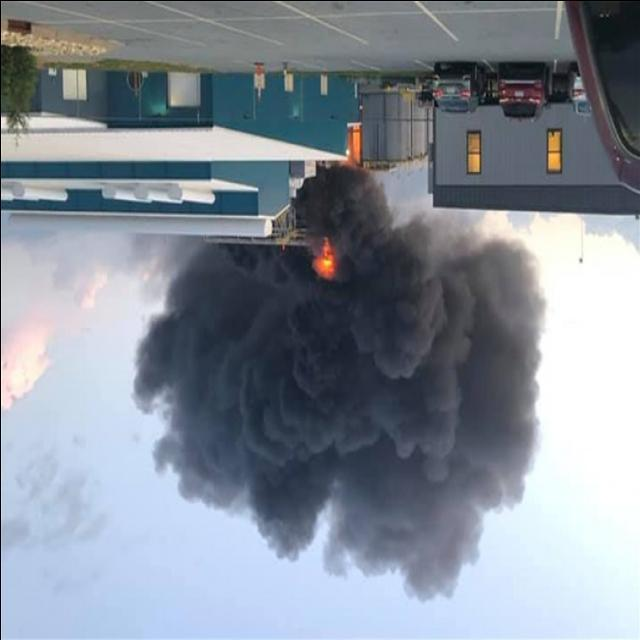Fire: (314, 246, 340, 288)
